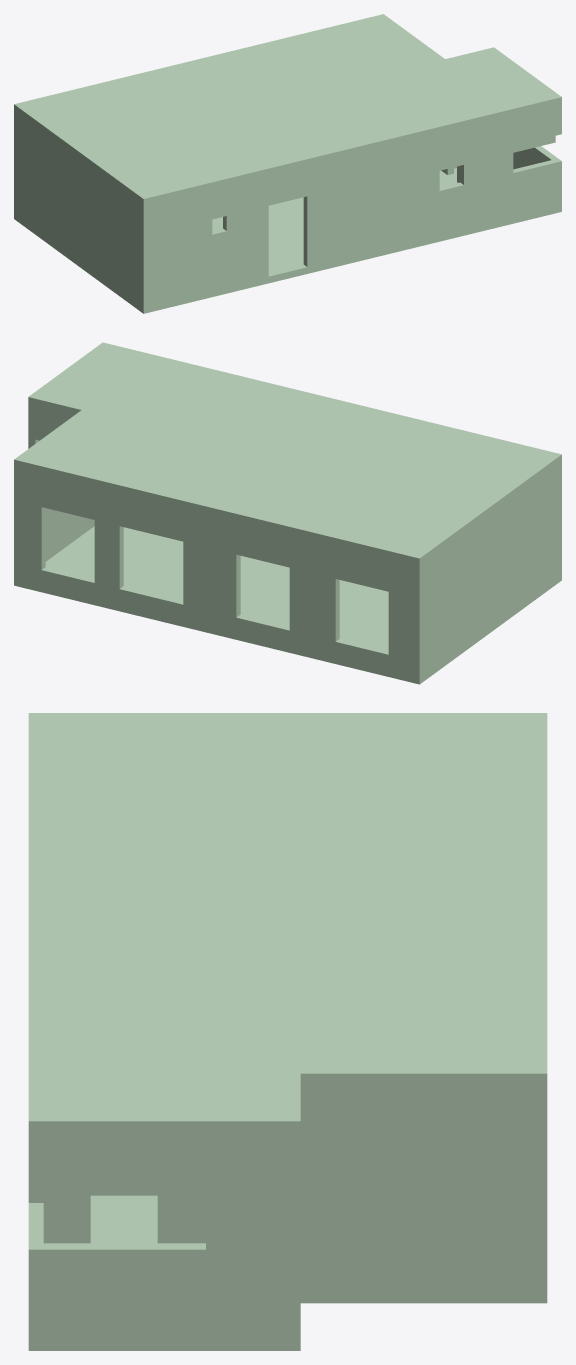
File: threeBR.gltf
3 renders of one model, top to bottom at view 1: azimuth 30°, elevation 25°; view 2: azimuth 150°, elevation 25°; view 3: azimuth 270°, elevation 25°, orthographic. The views are drawn at different scales.
Size of the model in its own units: 12.97 by 3.4 by 6.96.
